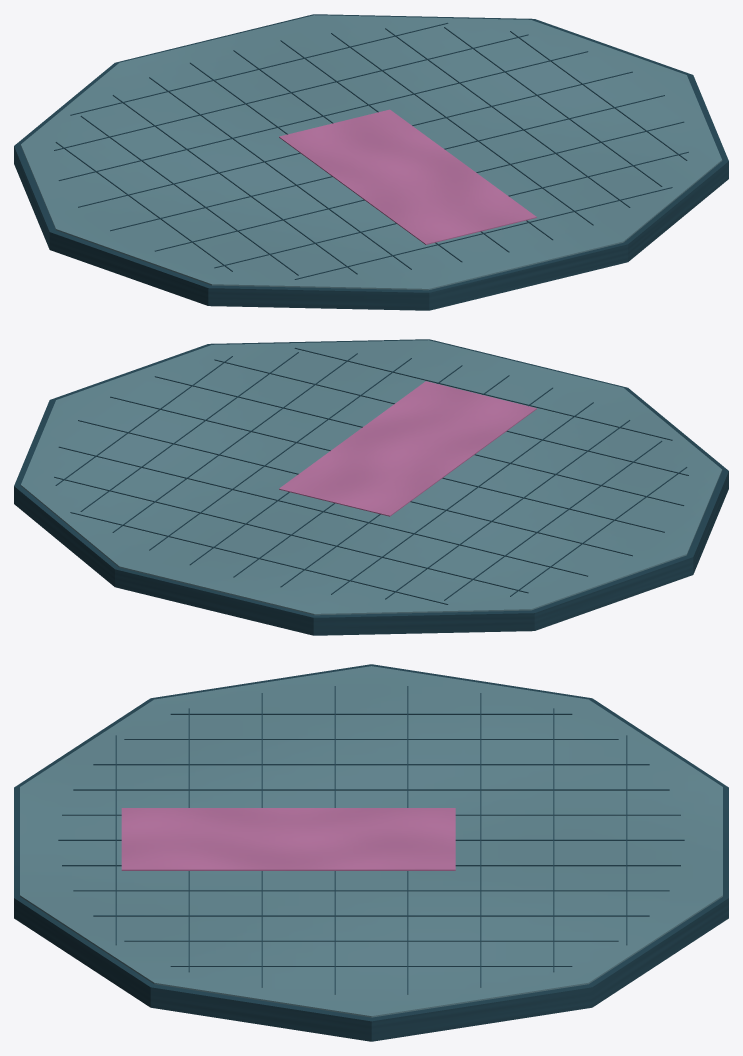
File: atlas100-s066-a07.glb
The picture shows the model from 3 angles, top to bottom: view 1: azimuth 30°, elevation 25°; view 2: azimuth 150°, elevation 25°; view 3: azimuth 270°, elevation 25°; orthographic projection. The views are drawn at different scales.
Visible parts, largest first — view 1: atlas100-s066-a07:part-001, atlas100-s066-a07:part-000, atlas100-s066-a07:part-021, atlas100-s066-a07:part-015, atlas100-s066-a07:part-014, atlas100-s066-a07:part-017, atlas100-s066-a07:part-016, atlas100-s066-a07:part-018, atlas100-s066-a07:part-020, atlas100-s066-a07:part-013, atlas100-s066-a07:part-019, atlas100-s066-a07:part-005 (+3 smaller); view 2: atlas100-s066-a07:part-001, atlas100-s066-a07:part-000, atlas100-s066-a07:part-021, atlas100-s066-a07:part-015, atlas100-s066-a07:part-014, atlas100-s066-a07:part-016, atlas100-s066-a07:part-017, atlas100-s066-a07:part-018, atlas100-s066-a07:part-013, atlas100-s066-a07:part-020, atlas100-s066-a07:part-019, atlas100-s066-a07:part-005 (+3 smaller); view 3: atlas100-s066-a07:part-001, atlas100-s066-a07:part-000, atlas100-s066-a07:part-021, atlas100-s066-a07:part-005, atlas100-s066-a07:part-009, atlas100-s066-a07:part-010, atlas100-s066-a07:part-004, atlas100-s066-a07:part-011, atlas100-s066-a07:part-002.
Boxes of the visible parts, x1,y1,x2,y2 form: atlas100-s066-a07:part-001: (20,15,722,290); atlas100-s066-a07:part-000: (14,14,728,310); atlas100-s066-a07:part-021: (279,109,536,244); atlas100-s066-a07:part-015: (58,51,588,180); atlas100-s066-a07:part-014: (54,34,528,150); atlas100-s066-a07:part-017: (110,95,664,231); atlas100-s066-a07:part-016: (78,71,632,207); atlas100-s066-a07:part-018: (155,121,684,251); atlas100-s066-a07:part-020: (294,187,672,279); atlas100-s066-a07:part-013: (70,22,448,115); atlas100-s066-a07:part-019: (214,151,688,268); atlas100-s066-a07:part-005: (149,77,411,269); atlas100-s066-a07:part-001: (20,340,722,615); atlas100-s066-a07:part-000: (14,339,728,635); atlas100-s066-a07:part-021: (279,381,536,516); atlas100-s066-a07:part-015: (58,446,587,576); atlas100-s066-a07:part-014: (54,476,528,593); atlas100-s066-a07:part-016: (78,420,632,556); atlas100-s066-a07:part-017: (110,396,664,532); atlas100-s066-a07:part-018: (154,376,684,505); atlas100-s066-a07:part-013: (70,512,448,604); atlas100-s066-a07:part-020: (294,347,672,440); atlas100-s066-a07:part-019: (214,359,688,475); atlas100-s066-a07:part-005: (331,402,593,594); atlas100-s066-a07:part-001: (20,666,722,1017); atlas100-s066-a07:part-000: (14,664,728,1041); atlas100-s066-a07:part-021: (121,808,455,870); atlas100-s066-a07:part-005: (73,789,669,790); atlas100-s066-a07:part-009: (73,890,669,891); atlas100-s066-a07:part-010: (93,915,649,916); atlas100-s066-a07:part-004: (93,764,649,765); atlas100-s066-a07:part-011: (124,940,618,941); atlas100-s066-a07:part-002: (170,713,572,714).
Bounding box in the file's own units: 12.75 × 0.404 × 10.78.
3 materials, 3 textured.
